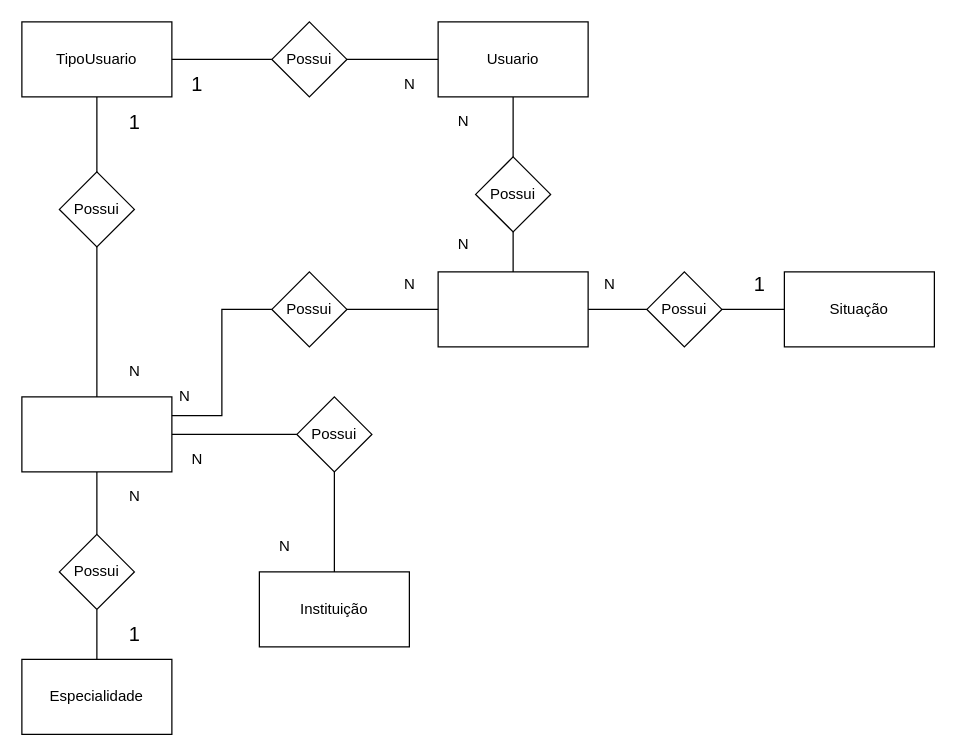
This 956x756 diagram has some shape labels left out. The shapes that lost their labels are listed below. From the top down, each one's box as (x1, y1, x2, y2) in pixels, then its label:
(437, 271, 588, 347): Consulta
(21, 396, 172, 472): Medico
